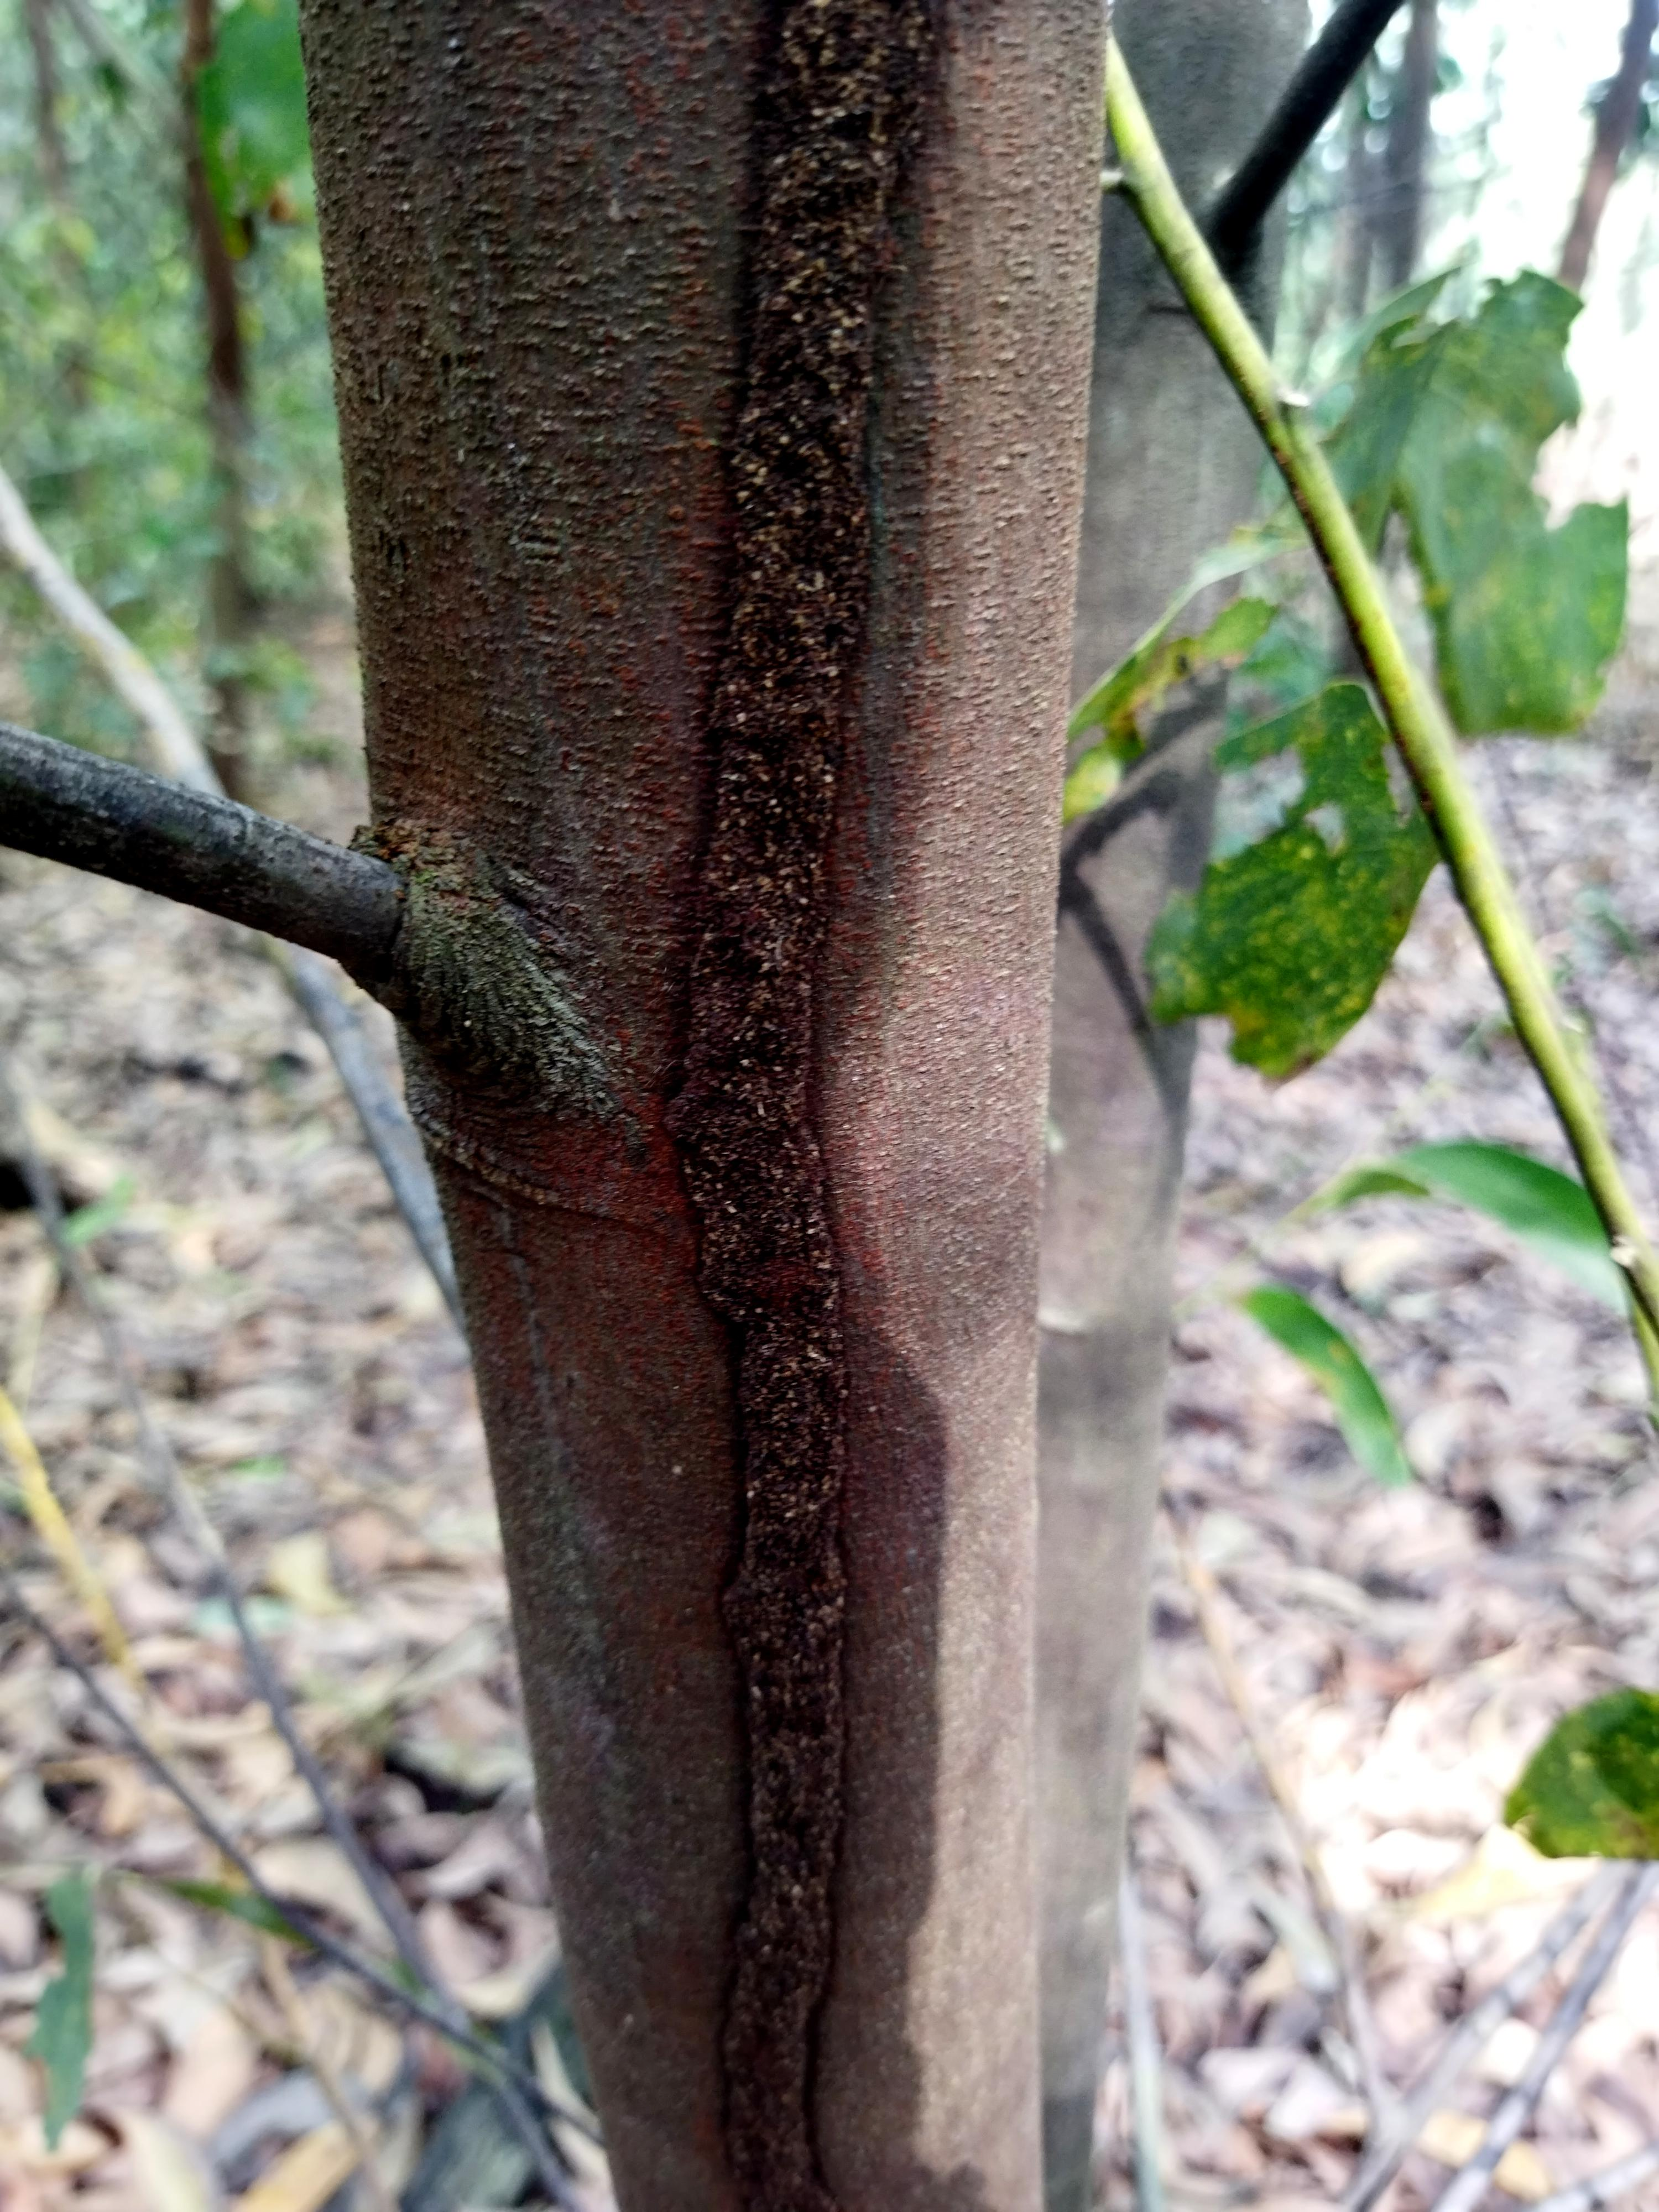Termite - Nest: (704, 0, 903, 2212)
